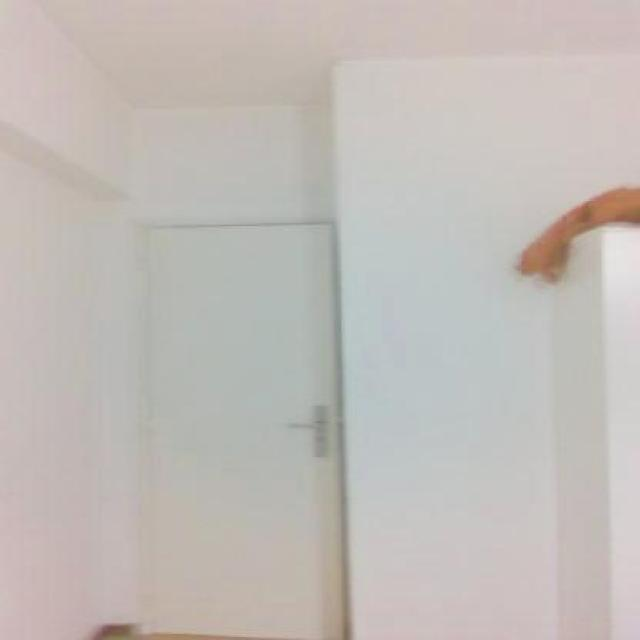door: (136, 220, 347, 638)
